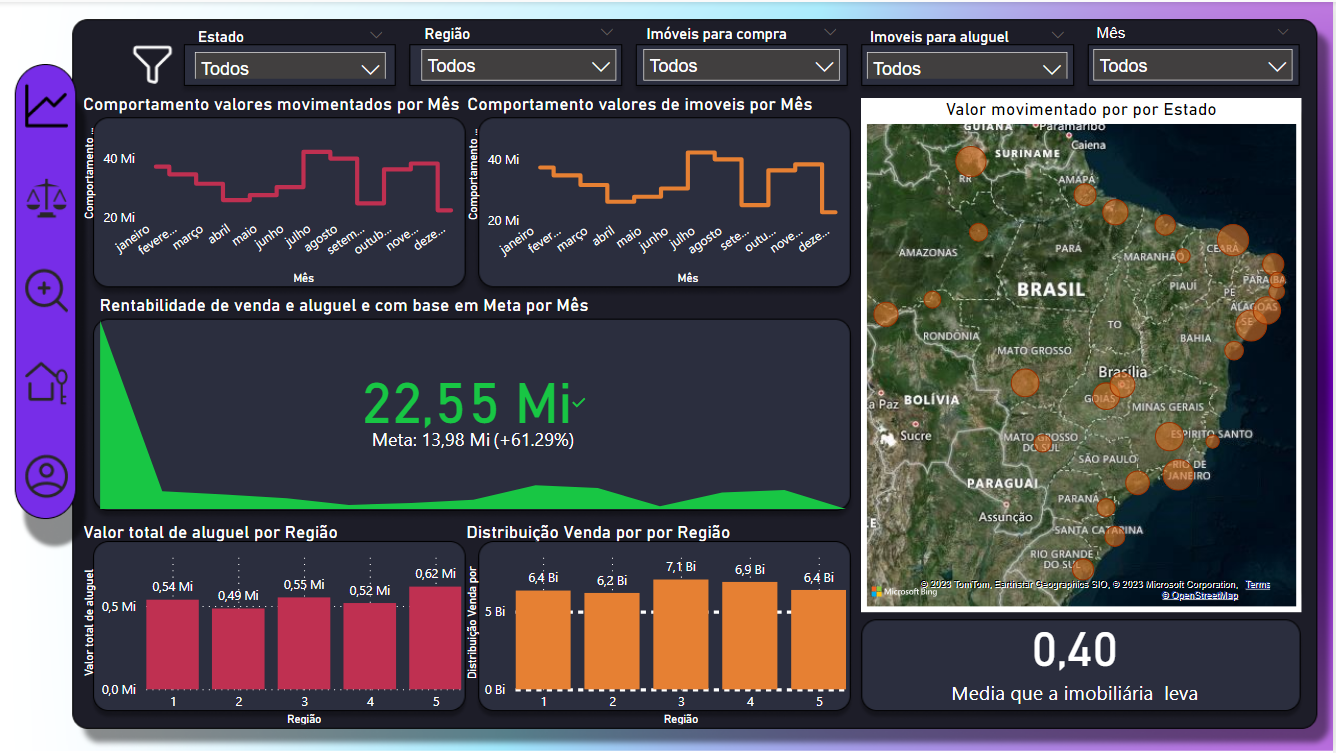

The page's visual inventory and layout, read from the dashboard file:
{"tool":"powerbi","page":{"name":"rendabilidade e movimentação ","canvas":[1280,720],"ordinal":9},"visuals":[{"type":"clusteredColumnChart","fields":{"Y":["iziimoveis tb_imoveisvendas.valor total de venda"],"Category":["iziimoveis tb_imoveisvendas.Tb_Regiao_idTb_Regiao"]},"box":[439.1,497.9,378.9,199.9],"z":0},{"type":"lineChart","fields":{"Category":["iziimoveis tb_consolida.Mes_de_referencia.Variation.Hierarquia de datas.Mês"],"Y":["iziimoveis tb_imoveisvendas.Valor movimentado pelo site"]},"box":[449.5,87.5,368.5,186.9],"z":1000},{"type":"lineChart","fields":{"Category":["iziimoveis tb_consolida.Mes_de_referencia.Variation.Hierarquia de datas.Mês"],"Y":["iziimoveis tb_imoveisvendas.Valor movimentado pelo site"]},"box":[77.1,87.5,372.4,186.9],"z":2000},{"type":"map","fields":{"Category":["iziimoveis tb_loja.Estado"],"Size":["iziimoveis tb_imoveisaluguel.Valor total de aluguel"]},"box":[828.5,91.5,422.1,492.6],"z":3000},{"type":"kpi","fields":{"Goal":["iziimoveis tb_imoveisvendas.meta"],"Indicator":["iziimoveis tb_imoveisvendas.Valor movimentado pelo site"],"TrendLine":["iziimoveis tb_consolida.Mes_de_referencia.Variation.Hierarquia de datas.Mês"]},"box":[92.8,274.4,725.2,216],"z":4000},{"type":"card","fields":{"Values":["iziimoveis tb_contrato.media da porcentagem do site"]},"box":[828.5,569.7,409,115],"z":5000},{"type":"slicer","fields":{"Values":["iziimoveis tb_consolida.Mes_de_referencia.Variation.Hierarquia de datas.Mês"]},"box":[1040.1,15.7,210.4,73.2],"z":6000},{"type":"slicer","fields":{"Values":["iziimoveis tb_imoveisaluguel.tipo_de_Imovel"]},"box":[823.2,19.6,211.7,53.6],"z":7000},{"type":"slicer","fields":{"Values":["iziimoveis tb_imoveisvendas.tipo_de_Imovel"]},"box":[608.9,17,207.8,69.3],"z":8000},{"type":"slicer","fields":{"Values":["iziimoveis tb_regiao.Nome_da_regiao"]},"box":[395.9,17,206.5,71.9],"z":9000},{"type":"columnChart","fields":{"Category":["iziimoveis tb_imoveisaluguel.Tb_Regiao_idTb_Regiao"],"Y":["iziimoveis tb_imoveisaluguel.Valor total de aluguel"]},"box":[77.1,497.9,372.4,199.9],"z":10000},{"type":"slicer","fields":{"Values":["iziimoveis tb_loja.Estado"]},"box":[179,19.6,202.5,53.6],"z":11000},{"type":"shape","box":[11.8,166,65.3,48.3],"z":12000},{"type":"shape","box":[11.8,249.6,65.3,48.3],"z":13000},{"type":"shape","box":[17,338.4,65.3,48.3],"z":14000},{"type":"shape","box":[11.8,429.9,65.3,48.3],"z":15000},{"type":"shape","box":[11.8,73.2,65.3,48.3],"z":16000}]}

Visuals, with their boxes on the page's 1280x720 design canvas (x1, y1, x2, y2). These are canvas units, not pixel positions in the 1336x753 screenshot, which may show the page scaled, cropped or inside an application window:
clusteredColumnChart - iziimoveis tb_imoveisvendas.valor total de venda x iziimoveis tb_imoveisvendas.Tb_Regiao_idTb_Regiao: pyautogui.locateOnScreen(439, 498, 818, 698)
lineChart - iziimoveis tb_consolida.Mes_de_referencia.Variation.Hierarquia de datas.Mês x iziimoveis tb_imoveisvendas.Valor movimentado pelo site: pyautogui.locateOnScreen(450, 88, 818, 274)
lineChart - iziimoveis tb_consolida.Mes_de_referencia.Variation.Hierarquia de datas.Mês x iziimoveis tb_imoveisvendas.Valor movimentado pelo site: pyautogui.locateOnScreen(77, 88, 450, 274)
map - iziimoveis tb_loja.Estado x iziimoveis tb_imoveisaluguel.Valor total de aluguel: pyautogui.locateOnScreen(828, 92, 1251, 584)
kpi - iziimoveis tb_imoveisvendas.meta x iziimoveis tb_imoveisvendas.Valor movimentado pelo site: pyautogui.locateOnScreen(93, 274, 818, 490)
card - iziimoveis tb_contrato.media da porcentagem do site: pyautogui.locateOnScreen(828, 570, 1238, 685)
slicer - iziimoveis tb_consolida.Mes_de_referencia.Variation.Hierarquia de datas.Mês: pyautogui.locateOnScreen(1040, 16, 1250, 89)
slicer - iziimoveis tb_imoveisaluguel.tipo_de_Imovel: pyautogui.locateOnScreen(823, 20, 1035, 73)
slicer - iziimoveis tb_imoveisvendas.tipo_de_Imovel: pyautogui.locateOnScreen(609, 17, 817, 86)
slicer - iziimoveis tb_regiao.Nome_da_regiao: pyautogui.locateOnScreen(396, 17, 602, 89)
columnChart - iziimoveis tb_imoveisaluguel.Tb_Regiao_idTb_Regiao x iziimoveis tb_imoveisaluguel.Valor total de aluguel: pyautogui.locateOnScreen(77, 498, 450, 698)
slicer - iziimoveis tb_loja.Estado: pyautogui.locateOnScreen(179, 20, 382, 73)
shape: pyautogui.locateOnScreen(12, 166, 77, 214)
shape: pyautogui.locateOnScreen(12, 250, 77, 298)
shape: pyautogui.locateOnScreen(17, 338, 82, 387)
shape: pyautogui.locateOnScreen(12, 430, 77, 478)
shape: pyautogui.locateOnScreen(12, 73, 77, 122)
